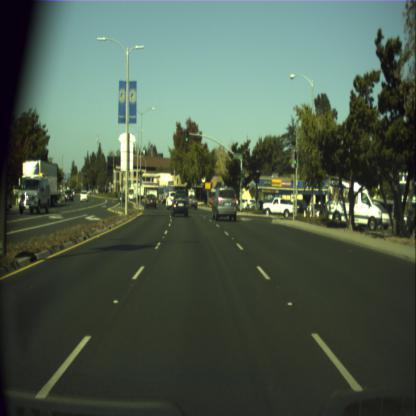Green: (184, 129, 190, 144), (294, 150, 298, 168), (241, 172, 244, 183)
